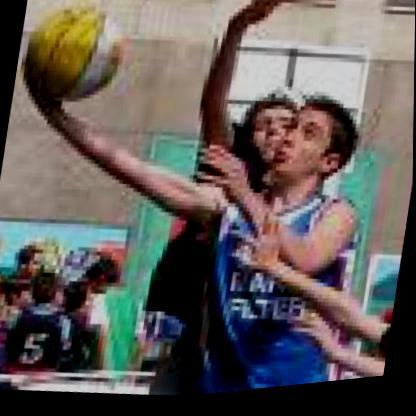basketball: (15, 0, 134, 114)
